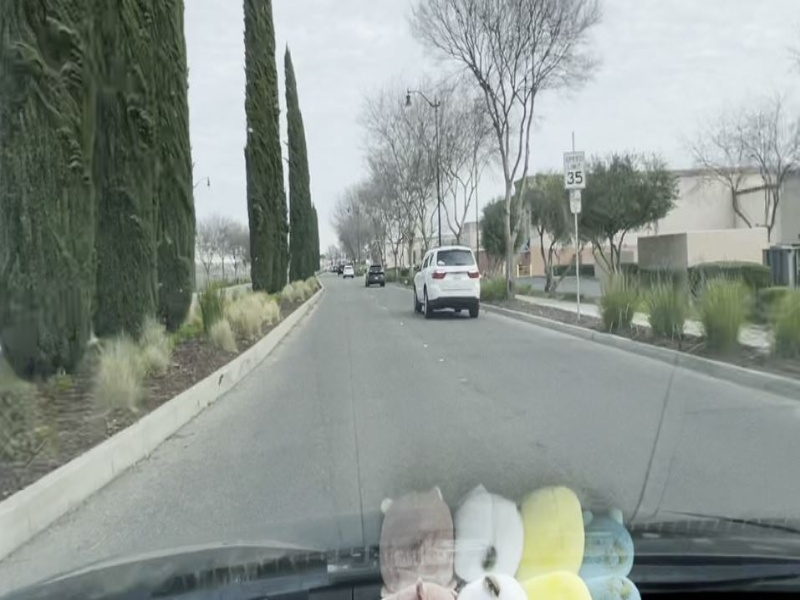speed limit sign: (559, 151, 586, 189)
